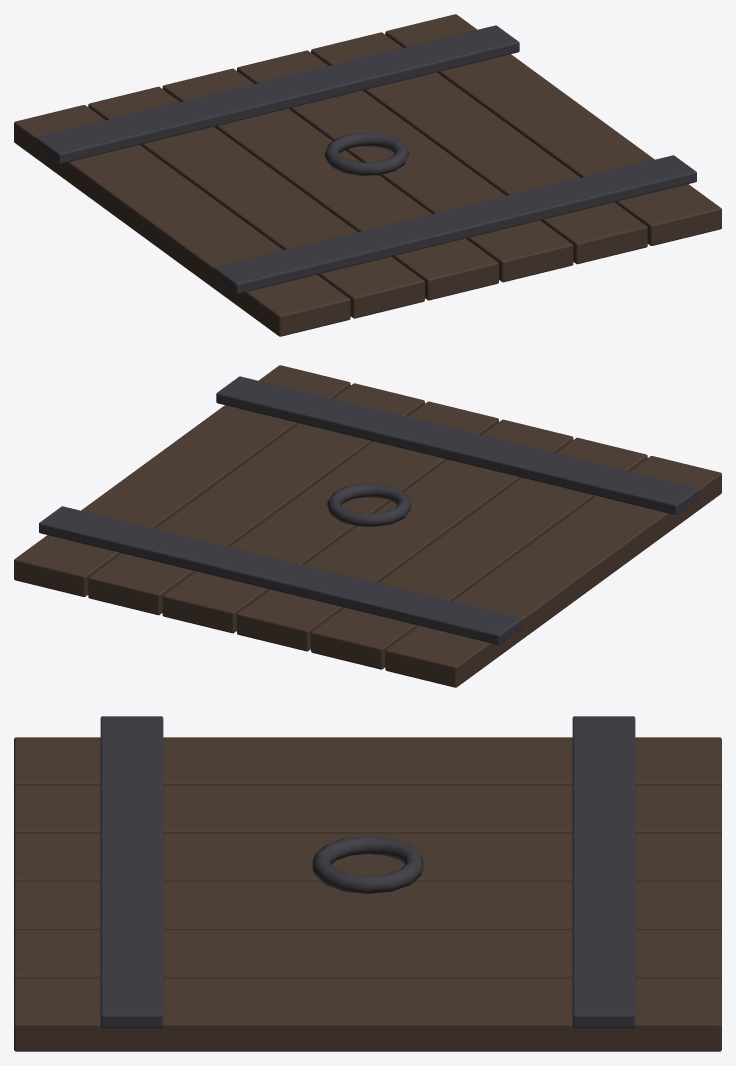
Rendered from floor_feature_trapdoor.glb.
3 renders of one model, top to bottom at view 1: azimuth 30°, elevation 25°; view 2: azimuth 150°, elevation 25°; view 3: azimuth 270°, elevation 25°, orthographic. The views are drawn at different scales.
Parts seen in each view (by area): view 1: GD_floor_feature_trapdoor__m0, GD_floor_feature_trapdoor__m1; view 2: GD_floor_feature_trapdoor__m0, GD_floor_feature_trapdoor__m1; view 3: GD_floor_feature_trapdoor__m0, GD_floor_feature_trapdoor__m1.
Boxes of the visible parts, x1,y1,x2,y2 form: GD_floor_feature_trapdoor__m0: (14,14,721,336); GD_floor_feature_trapdoor__m1: (36,25,696,293); GD_floor_feature_trapdoor__m0: (14,365,721,687); GD_floor_feature_trapdoor__m1: (39,376,699,644); GD_floor_feature_trapdoor__m0: (14,737,721,1051); GD_floor_feature_trapdoor__m1: (100,716,635,1028).
Size of the model in its own units: 0.9 by 0.072 by 0.9.
